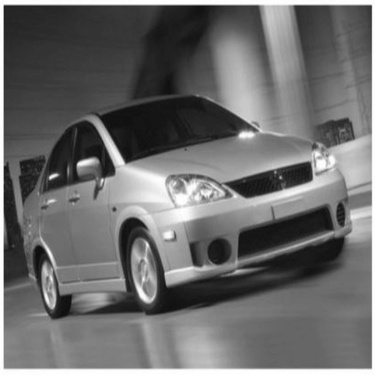car: (10, 87, 354, 322)
